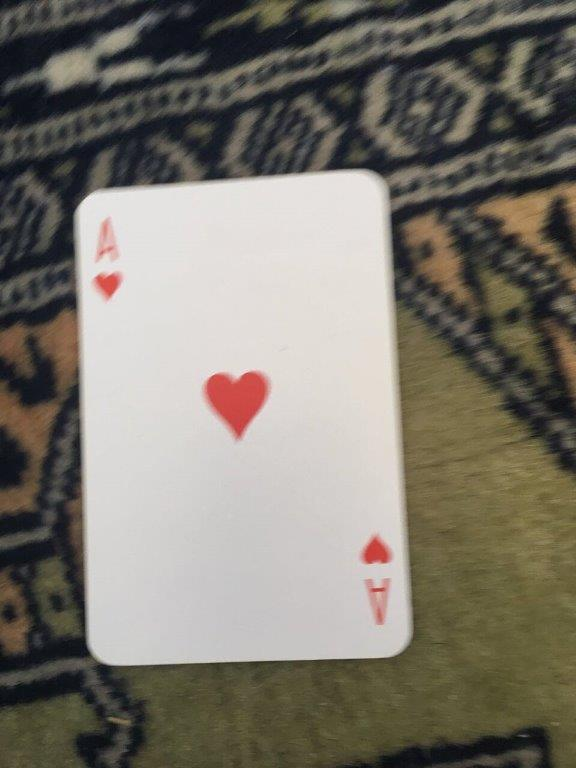AH: (70, 164, 416, 669)
